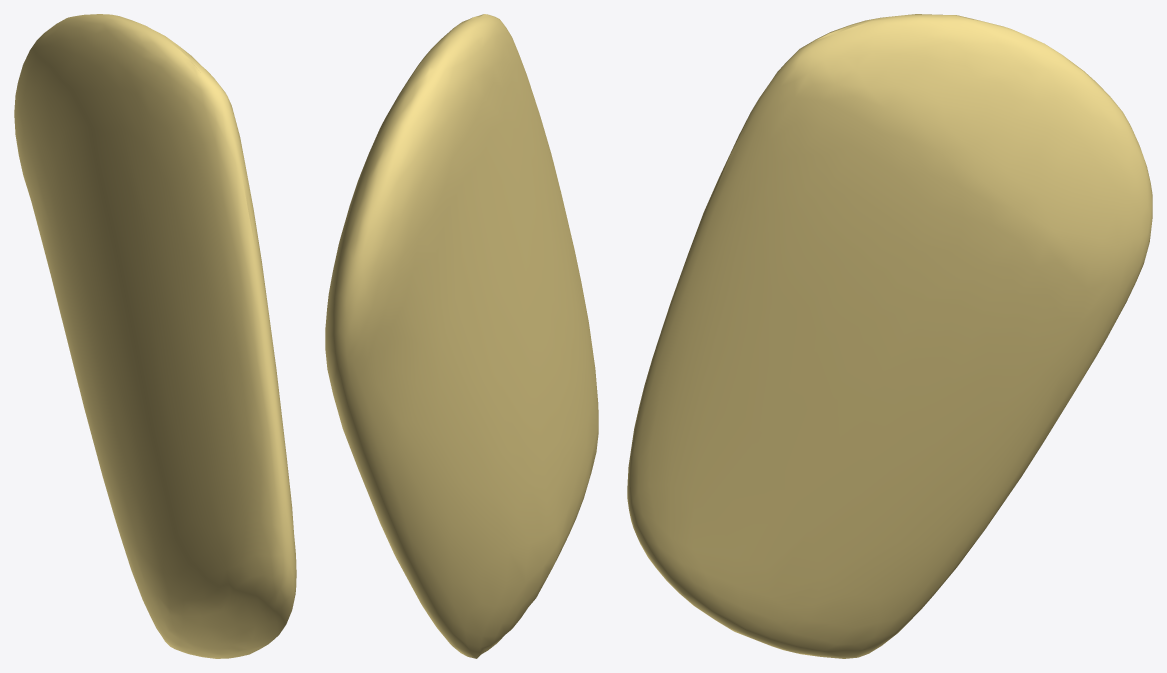
File: fma73353_fj7496m.glb
The picture shows the model from 3 angles, left to right: view 1: azimuth 30°, elevation 25°; view 2: azimuth 150°, elevation 25°; view 3: azimuth 270°, elevation 25°; orthographic projection. The views are drawn at different scales.
Visible parts, largest first — view 1: FMA73353_FJ7496M; view 2: FMA73353_FJ7496M; view 3: FMA73353_FJ7496M.
Part boxes in pixels (x1=…): FMA73353_FJ7496M: x1=14, y1=14, x2=296, y2=658; FMA73353_FJ7496M: x1=325, y1=14, x2=598, y2=658; FMA73353_FJ7496M: x1=627, y1=14, x2=1152, y2=658.
Bounding box in the file's own units: 0.00103 × 0.00647 × 0.00484.
